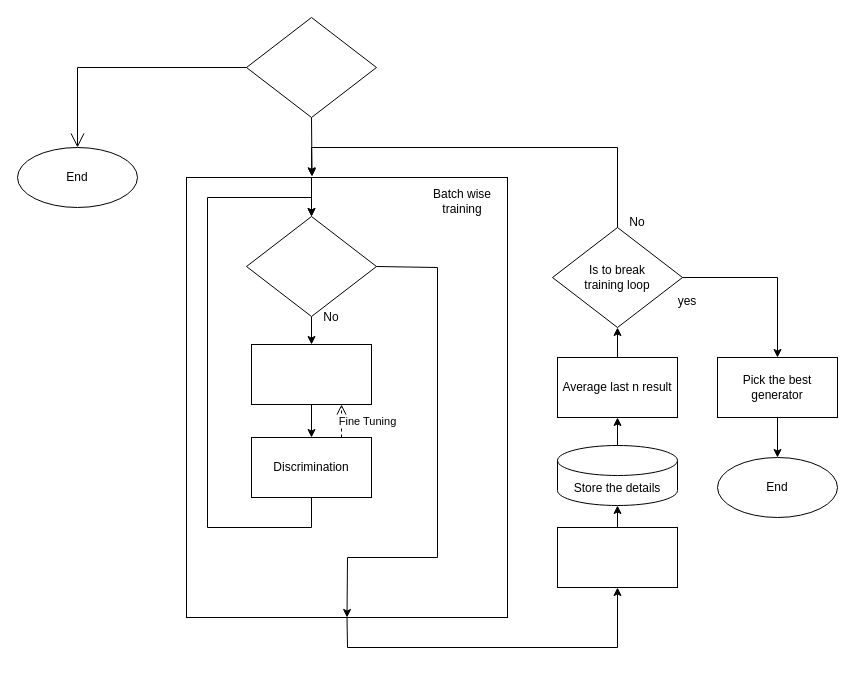
Some shapes in this 855 by 673 pixel diagram are drawn without their labels. The shapes that lost their labels are listed below. From the top down, each one's box as (x1, y1, x2, y2) in pixels, then its label:
(246, 16, 376, 118): Epochs over
(246, 216, 376, 316): Batches over
(250, 344, 372, 404): Image Generation
(556, 526, 678, 588): Evaluate the generator
